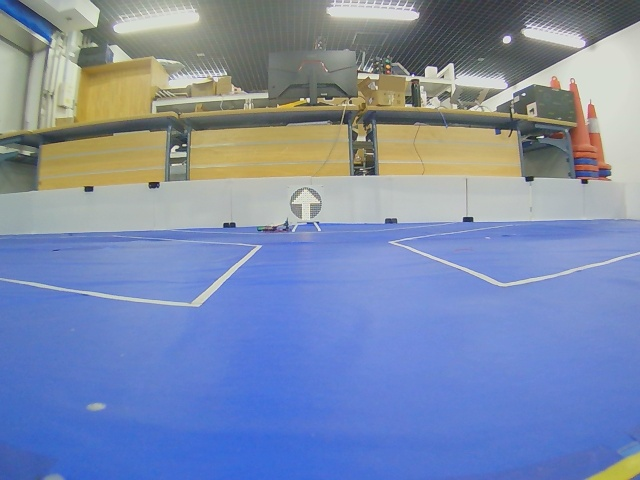straight_yellow: (291, 187, 322, 221)
